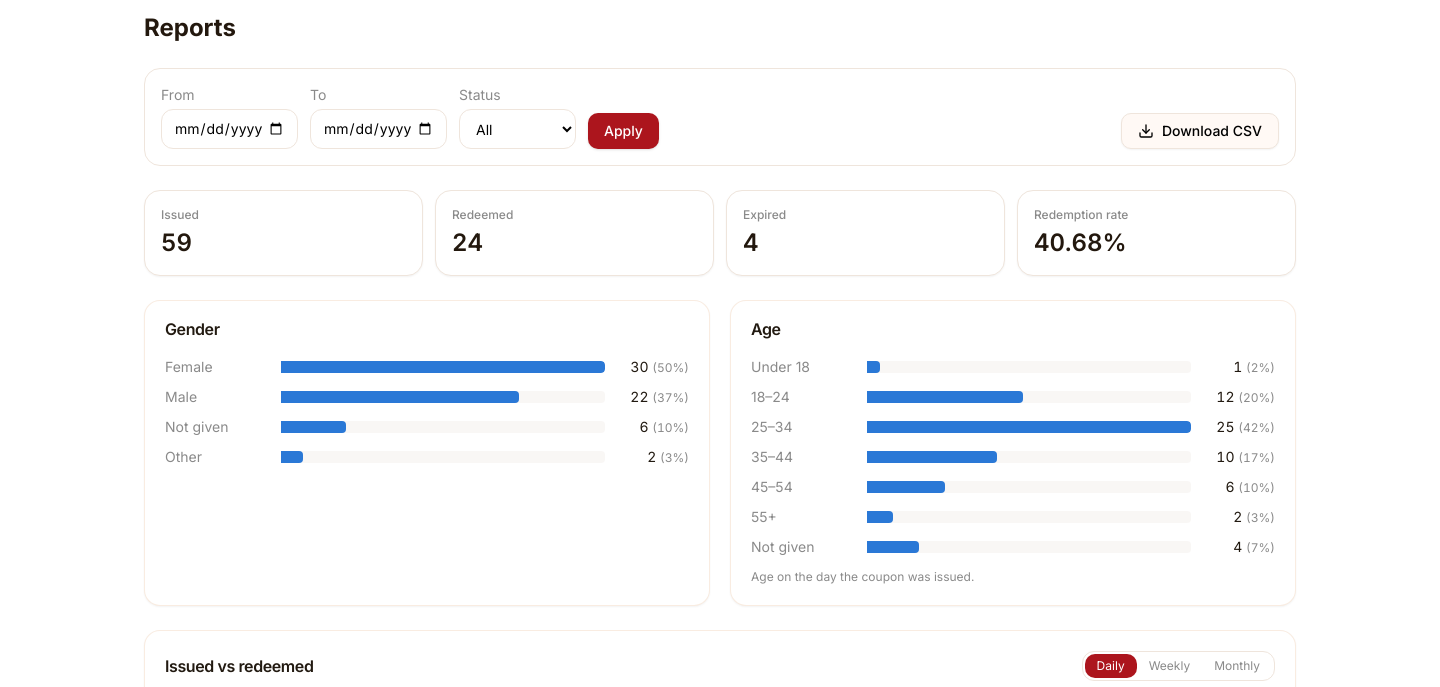
Test: Reports › a start date after the end date is refused before asking
Check: the element with test id "r-issued" is shown, box [144,190,423,276]
Type "2026-10-31" into the date field labelled "From" at point(230, 129), box [161,109,298,149]
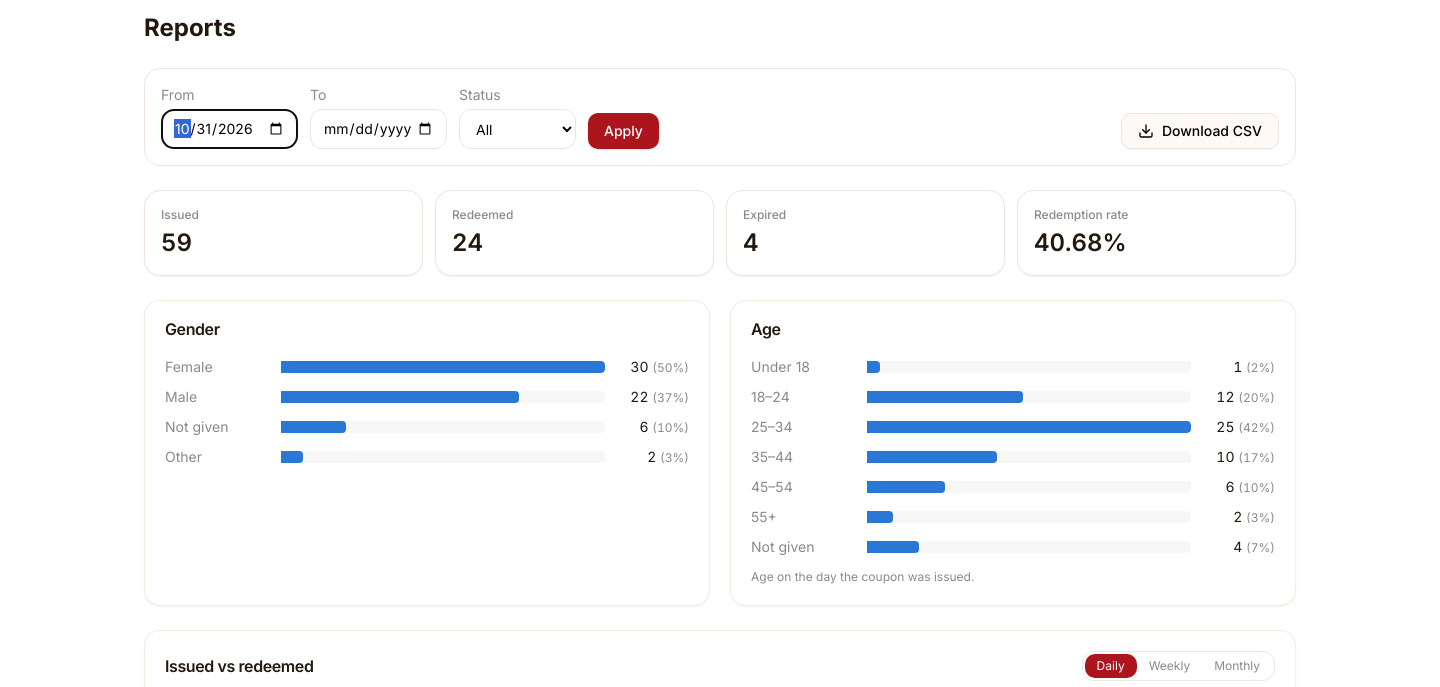
Type "2026-10-01" into the date field labelled "To" at point(378, 129), box [310,109,447,149]
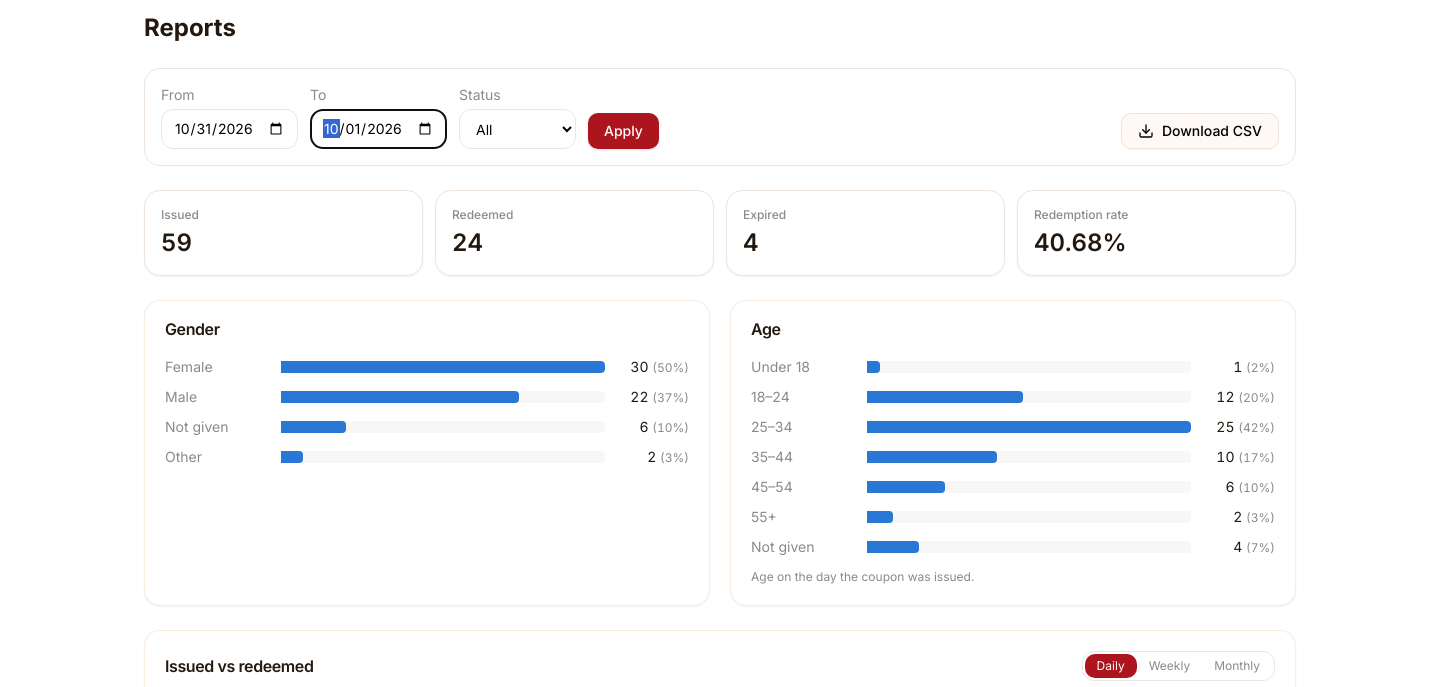
Click the button "Apply" at point(623, 131), box [588,113,659,149]
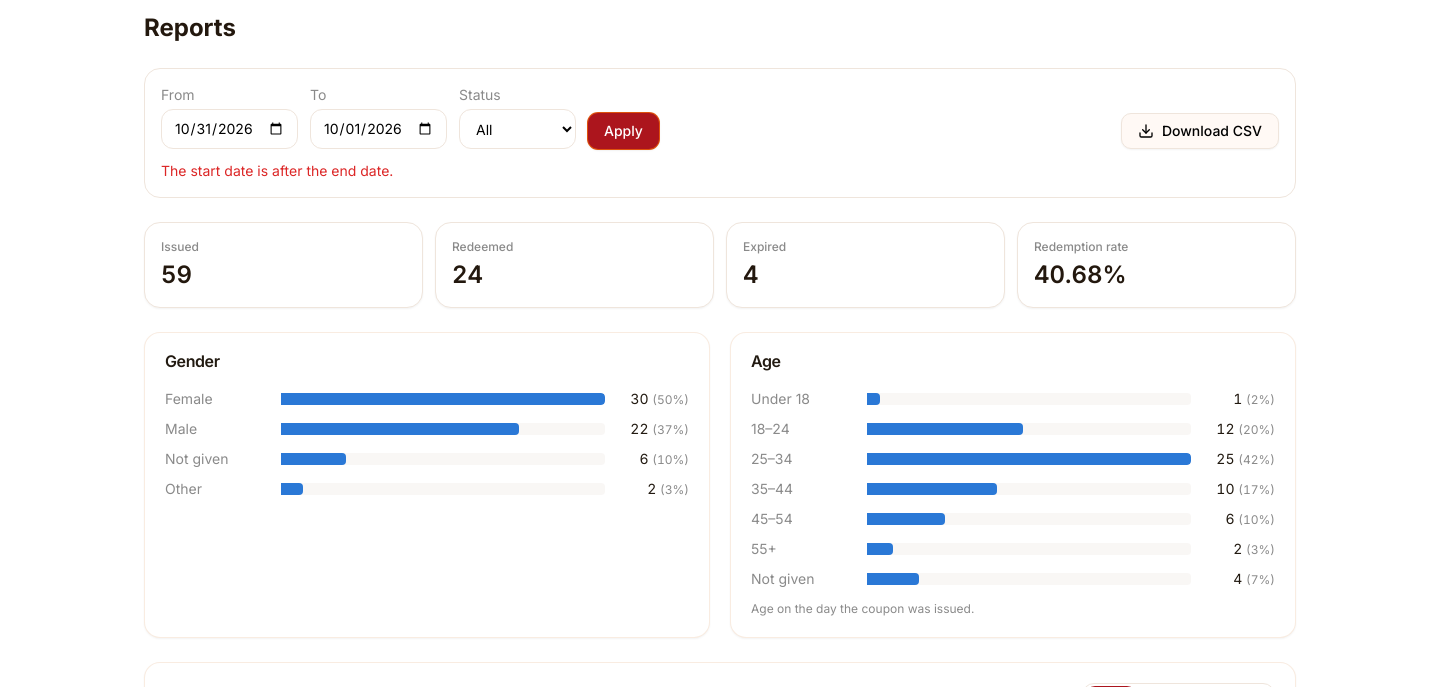
Check: the text "The start date is after the end date." is shown, box [161,162,393,179]
